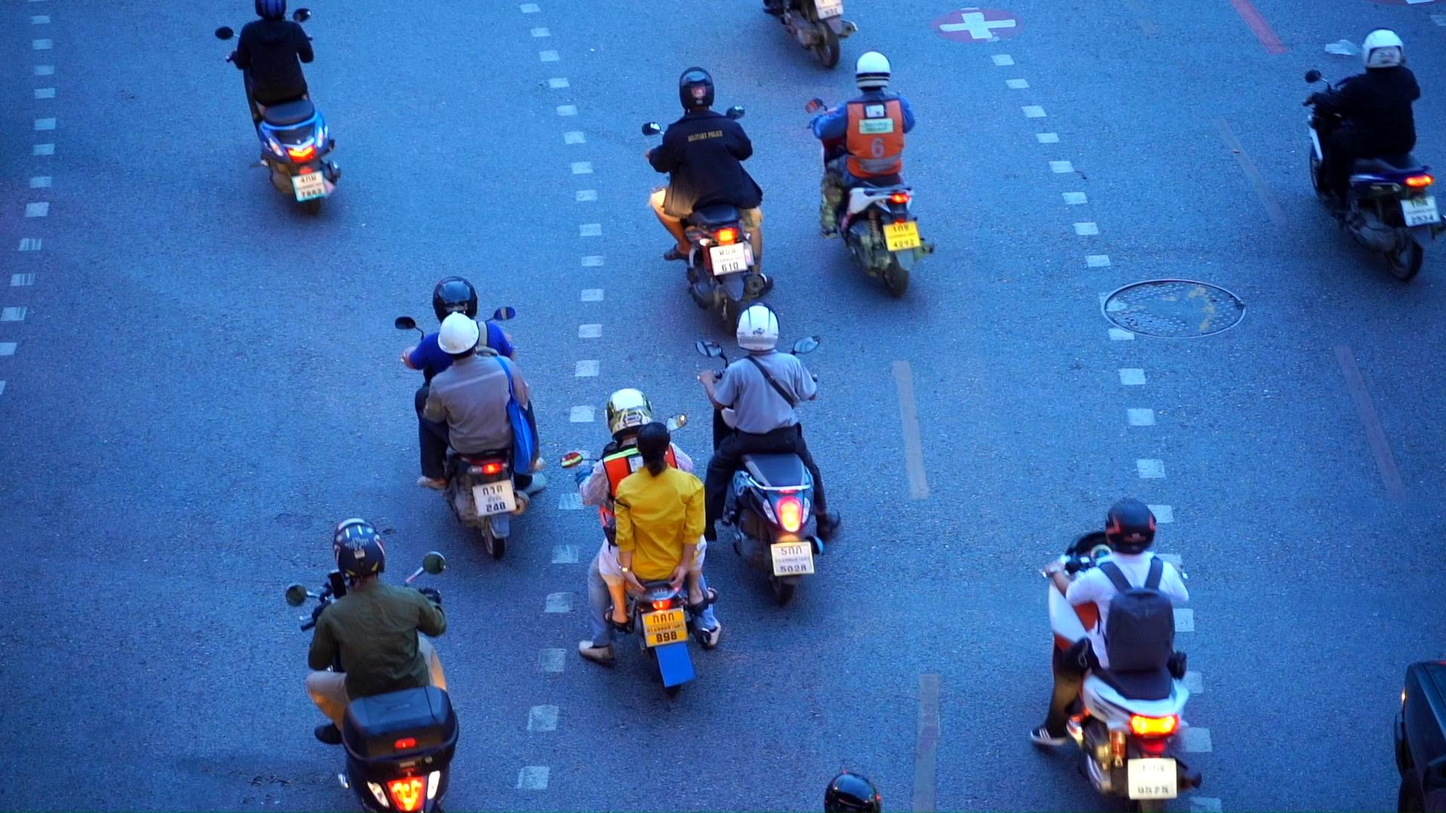driver: (1029, 498, 1204, 813), (284, 517, 459, 813), (560, 387, 721, 699), (694, 300, 840, 605), (394, 275, 549, 559), (1302, 28, 1446, 279), (642, 66, 774, 339), (806, 51, 936, 298), (214, 0, 340, 218)
helmet: (332, 516, 385, 588), (1105, 499, 1157, 554), (604, 387, 653, 442), (824, 772, 882, 813), (432, 275, 478, 324), (737, 301, 780, 352), (438, 311, 480, 361), (1361, 28, 1406, 71), (679, 66, 714, 116), (855, 51, 891, 94), (255, 0, 287, 22)
no-helmet: (636, 422, 671, 478)
